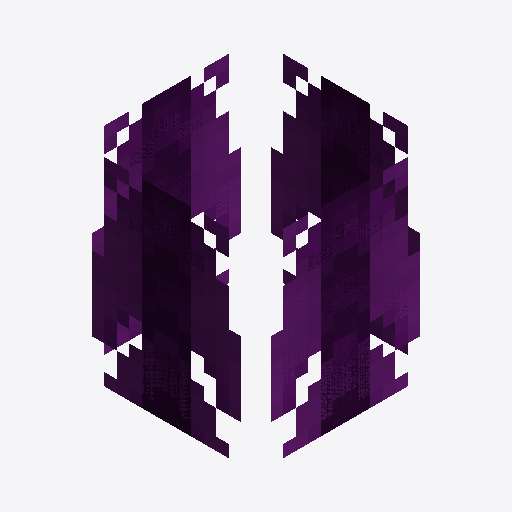
Isometric view (azimuth 45°, elevation 35.3°) of a Minecraft model made of 4 cuboids, textured from the same repository.
Parts seen in each view (by area): element 1, element 3, element 2, element 4.
Boxes of the visible parts, <box> form: element 1: <box>92,157,240,457</box>; element 3: <box>271,157,419,457</box>; element 2: <box>271,54,419,354</box>; element 4: <box>92,54,240,354</box>.
Size of the model in its own units: 16 by 16 by 16.